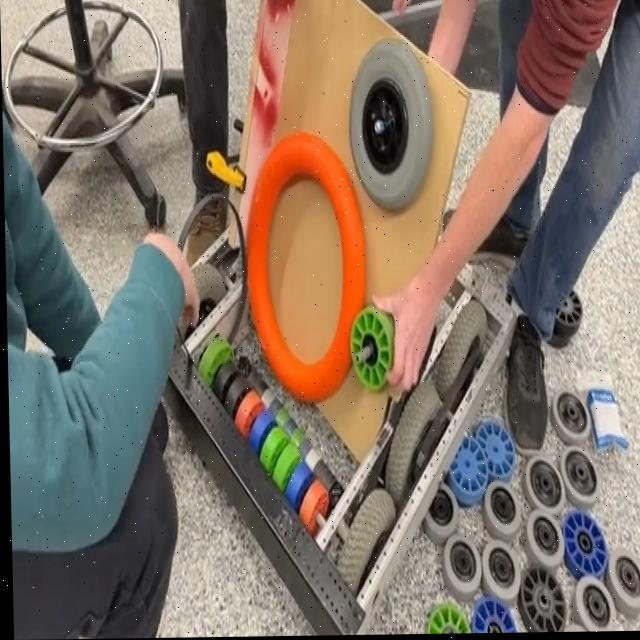note: (241, 128, 370, 409)
